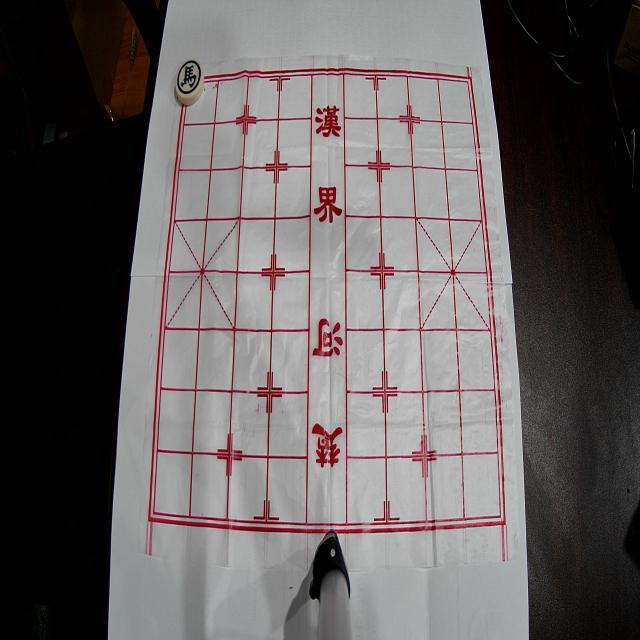black-horse: (176, 58, 204, 105)
